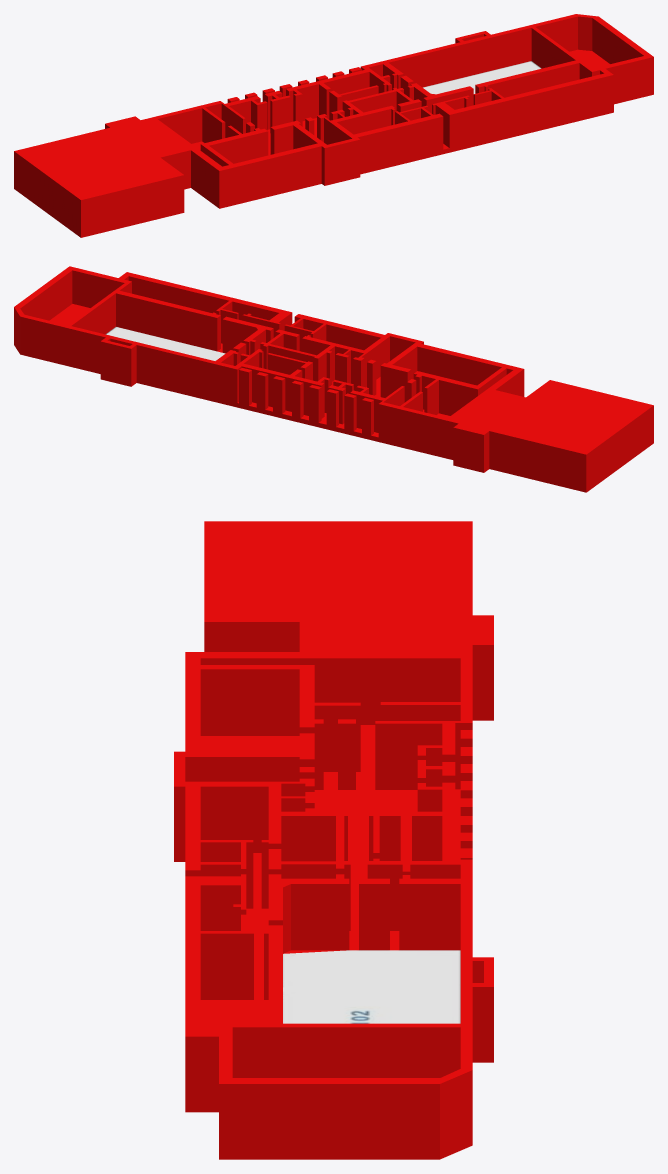
File: objON.obj
The picture shows the model from 3 angles, top to bottom: view 1: azimuth 30°, elevation 25°; view 2: azimuth 150°, elevation 25°; view 3: azimuth 270°, elevation 25°; orthographic projection. The views are drawn at different scales.
Bounding box in the file's own units: 759 × 47.46 × 182.
2 materials, 1 textured.
